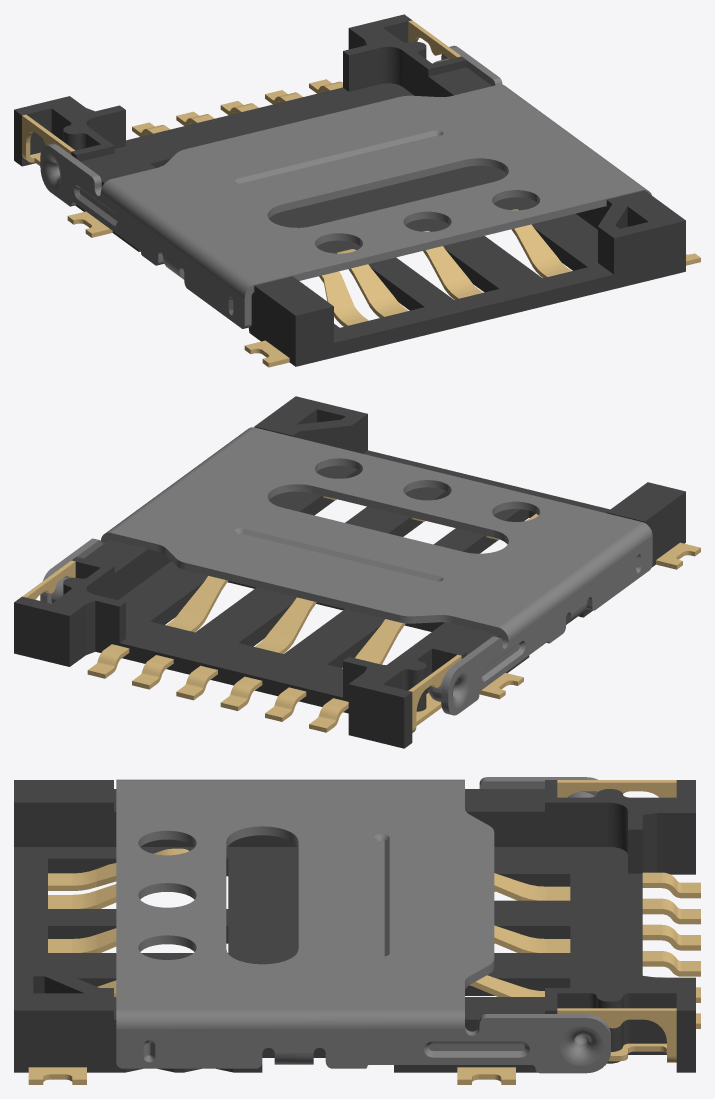
The model's file is kc-nanosim_hinged_cui_nsim-2-c.glb.
3 renders of one model, top to bottom at view 1: azimuth 30°, elevation 25°; view 2: azimuth 150°, elevation 25°; view 3: azimuth 270°, elevation 25°, orthographic. The views are drawn at different scales.
Visible parts, largest first — view 1: 0.25_0.25_0.25_0, 0.08333333333333333_0.08333333333333333_0.08333333333333333_, 0.75_0.5_0.25_0.9; view 2: 0.25_0.25_0.25_0, 0.08333333333333333_0.08333333333333333_0.08333333333333333_, 0.75_0.5_0.25_0.9; view 3: 0.25_0.25_0.25_0, 0.08333333333333333_0.08333333333333333_0.08333333333333333_, 0.75_0.5_0.25_0.9.
Boxes of the visible parts, x1,y1,x2,y2 form: 0.25_0.25_0.25_0: (40, 45, 651, 328); 0.08333333333333333_0.08333333333333333_0.08333333333333333_: (14, 14, 685, 366); 0.75_0.5_0.25_0.9: (22, 20, 700, 367); 0.25_0.25_0.25_0: (40, 427, 652, 715); 0.08333333333333333_0.08333333333333333_0.08333333333333333_: (14, 396, 685, 748); 0.75_0.5_0.25_0.9: (22, 496, 700, 732); 0.25_0.25_0.25_0: (116, 777, 610, 1073); 0.08333333333333333_0.08333333333333333_0.08333333333333333_: (14, 780, 695, 1072); 0.75_0.5_0.25_0.9: (28, 780, 700, 1084).
Size of the model in its own units: 1.24 by 0.143 by 1.41.
